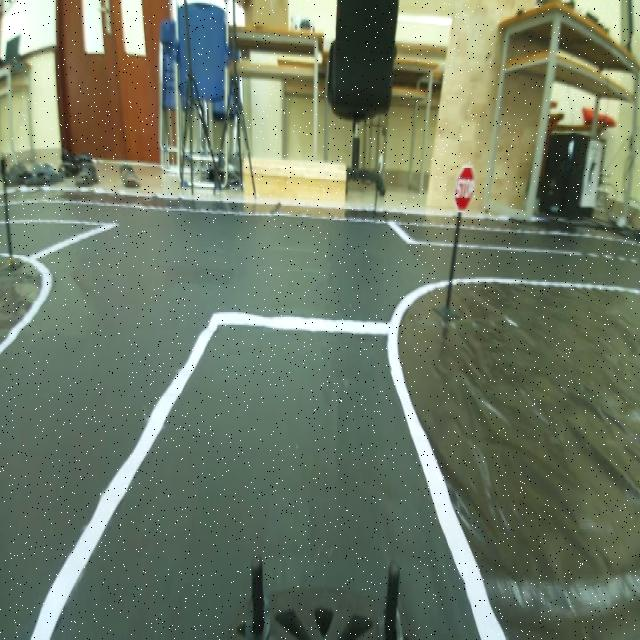stop: (454, 156, 481, 218)
